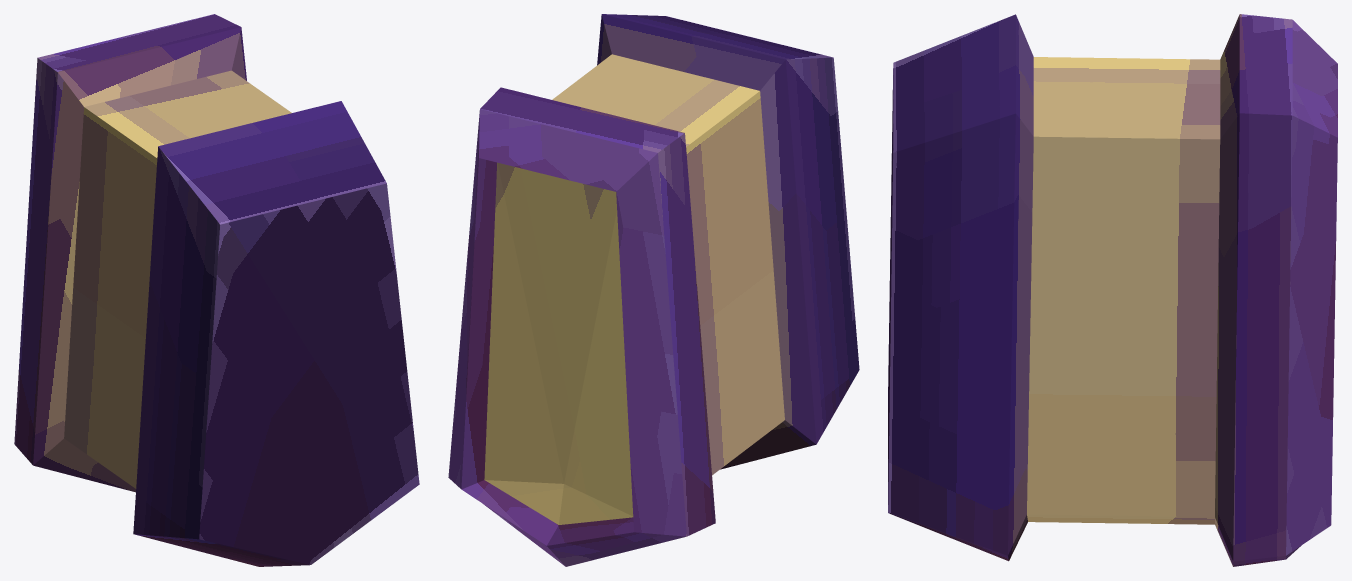
File: item_batterycell_hydra.glb
3 renders of one model, left to right at view 1: azimuth 30°, elevation 25°; view 2: azimuth 150°, elevation 25°; view 3: azimuth 270°, elevation 25°, orthographic. The views are drawn at different scales.
Visible parts, largest first — view 1: Shotgun_Hydra_EnergyCell; view 2: Shotgun_Hydra_EnergyCell; view 3: Shotgun_Hydra_EnergyCell.
Part boxes in pixels (x1,y1,x2,y2): Shotgun_Hydra_EnergyCell: [14, 14, 419, 566]; Shotgun_Hydra_EnergyCell: [448, 14, 859, 566]; Shotgun_Hydra_EnergyCell: [888, 14, 1337, 566].
Bounding box in the file's own units: 0.0524 × 0.0905 × 0.0738.
Materials: 1 (1 with a texture image).
